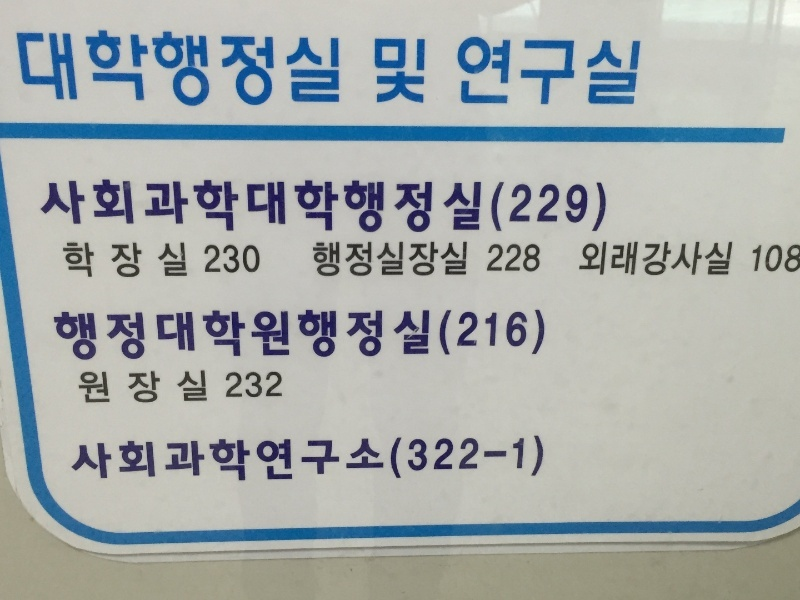text: (17, 26, 32, 110), (33, 26, 48, 110), (49, 26, 64, 110), (65, 26, 80, 110), (81, 26, 96, 110), (97, 26, 112, 110), (113, 26, 128, 110), (129, 26, 144, 110), (145, 26, 160, 110), (161, 26, 176, 110), (177, 26, 192, 110), (193, 26, 208, 110), (209, 26, 224, 110), (225, 26, 240, 110), (241, 26, 256, 110), (257, 26, 272, 110), (273, 26, 288, 110), (289, 26, 304, 110), (305, 26, 320, 110), (321, 26, 336, 110), (465, 35, 480, 108), (481, 35, 496, 108), (497, 35, 512, 108), (513, 35, 528, 108), (529, 35, 544, 108), (545, 35, 560, 108), (561, 35, 576, 108), (577, 35, 592, 108), (593, 35, 608, 108), (609, 35, 624, 108), (625, 35, 640, 108), (385, 38, 400, 108), (401, 38, 416, 108), (49, 176, 64, 237), (65, 176, 80, 237), (81, 176, 96, 237), (97, 176, 112, 237), (113, 176, 128, 237), (129, 176, 144, 237), (145, 176, 160, 237), (161, 176, 176, 237), (177, 176, 192, 237), (193, 176, 208, 237), (209, 176, 224, 237), (225, 176, 240, 237), (241, 176, 256, 237), (257, 176, 272, 237), (273, 176, 288, 237), (289, 176, 304, 237), (305, 176, 320, 237), (321, 176, 336, 237), (337, 176, 352, 237), (353, 176, 368, 237), (369, 176, 384, 237), (385, 176, 400, 237), (401, 176, 416, 237), (417, 176, 432, 237), (433, 176, 448, 237), (449, 176, 464, 237), (465, 176, 480, 237), (497, 179, 512, 238), (513, 179, 528, 238), (529, 179, 544, 238), (545, 179, 560, 238), (561, 179, 576, 238), (577, 179, 592, 238), (593, 179, 608, 238), (65, 307, 80, 364), (81, 307, 96, 364), (97, 307, 112, 364), (113, 307, 128, 364), (129, 307, 144, 364), (145, 307, 160, 364), (161, 307, 176, 364), (177, 307, 192, 364), (193, 307, 208, 364), (209, 307, 224, 364), (225, 307, 240, 364), (241, 307, 256, 364), (257, 307, 272, 364), (273, 307, 288, 364), (289, 307, 304, 364), (305, 307, 320, 364), (321, 307, 336, 364), (337, 307, 352, 364), (353, 307, 368, 364), (369, 307, 384, 364), (385, 307, 400, 364), (401, 307, 416, 364), (417, 307, 432, 364), (449, 306, 464, 361), (465, 306, 480, 361), (481, 306, 496, 361), (497, 306, 512, 361), (513, 306, 528, 361), (529, 306, 544, 361), (81, 434, 96, 487), (97, 434, 112, 487), (113, 434, 128, 487), (129, 434, 144, 487), (145, 434, 160, 487), (161, 434, 176, 487), (177, 434, 192, 487), (193, 434, 208, 487), (209, 434, 224, 487), (225, 434, 240, 487), (241, 434, 256, 487), (257, 434, 272, 487), (273, 434, 288, 487), (289, 434, 304, 487), (305, 434, 320, 487), (321, 434, 336, 487), (337, 434, 352, 487), (353, 434, 368, 487), (369, 434, 384, 487), (373, 38, 384, 108), (417, 38, 428, 108), (401, 434, 416, 484), (417, 434, 432, 484), (433, 434, 448, 484), (449, 434, 464, 484), (465, 434, 480, 484), (481, 434, 496, 484), (497, 434, 512, 484), (513, 434, 528, 484), (529, 434, 544, 484), (51, 307, 64, 364), (81, 367, 96, 409), (97, 367, 112, 409), (113, 367, 128, 409), (129, 367, 144, 409), (145, 367, 160, 409), (161, 367, 176, 409), (177, 367, 192, 409), (193, 367, 208, 409), (65, 242, 80, 279), (81, 242, 96, 279), (97, 242, 112, 279), (113, 242, 128, 279), (129, 242, 144, 279), (145, 242, 160, 279), (161, 242, 176, 279), (321, 241, 336, 278), (337, 241, 352, 278), (353, 241, 368, 278), (369, 241, 384, 278), (385, 241, 400, 278), (401, 241, 416, 278), (417, 241, 432, 278), (433, 241, 448, 278), (449, 241, 464, 278), (438, 306, 448, 361), (593, 241, 608, 277), (609, 241, 624, 277), (625, 241, 640, 277), (641, 241, 656, 277), (657, 241, 672, 277), (673, 241, 688, 277), (689, 241, 704, 277), (705, 241, 720, 277), (457, 35, 464, 108), (71, 434, 80, 487), (721, 241, 734, 277), (225, 371, 240, 402), (241, 371, 256, 402), (257, 371, 272, 402), (497, 243, 512, 274), (513, 243, 528, 274), (209, 244, 224, 274), (225, 244, 240, 274), (241, 244, 256, 274), (753, 243, 768, 273), (769, 243, 784, 273), (785, 243, 800, 273), (41, 176, 48, 237), (337, 26, 342, 110), (489, 179, 496, 238), (177, 242, 188, 279), (392, 434, 400, 484), (273, 371, 285, 402), (529, 243, 541, 274), (583, 241, 592, 277), (312, 241, 320, 278), (74, 367, 80, 409), (488, 243, 496, 274), (481, 176, 484, 237), (257, 244, 263, 274), (609, 179, 612, 238), (14, 26, 16, 110), (545, 306, 548, 361), (203, 244, 208, 274), (641, 35, 643, 108), (385, 434, 387, 487), (209, 367, 211, 409), (62, 242, 64, 279), (465, 241, 467, 278), (545, 434, 546, 484)
